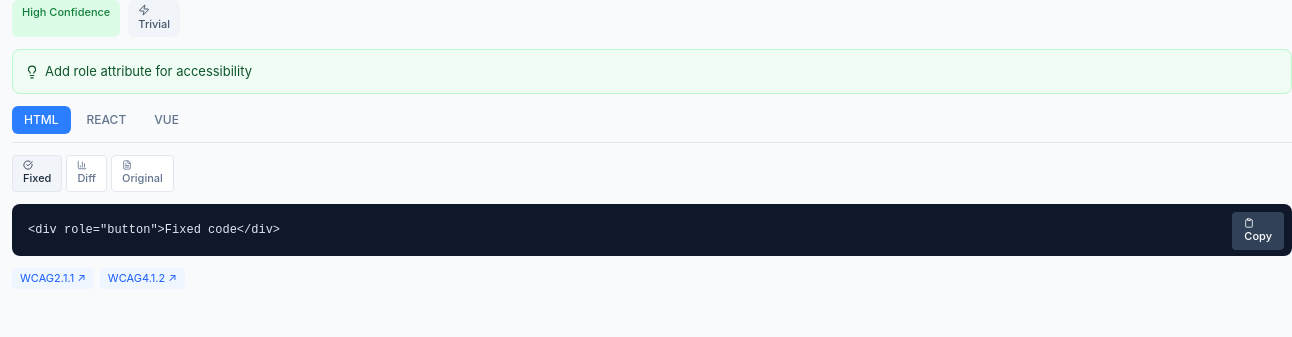
it: findings/FixCodePreview › renders empty diff lines as a space character
Click the button "Diff": (87, 173) [66, 155, 107, 192]
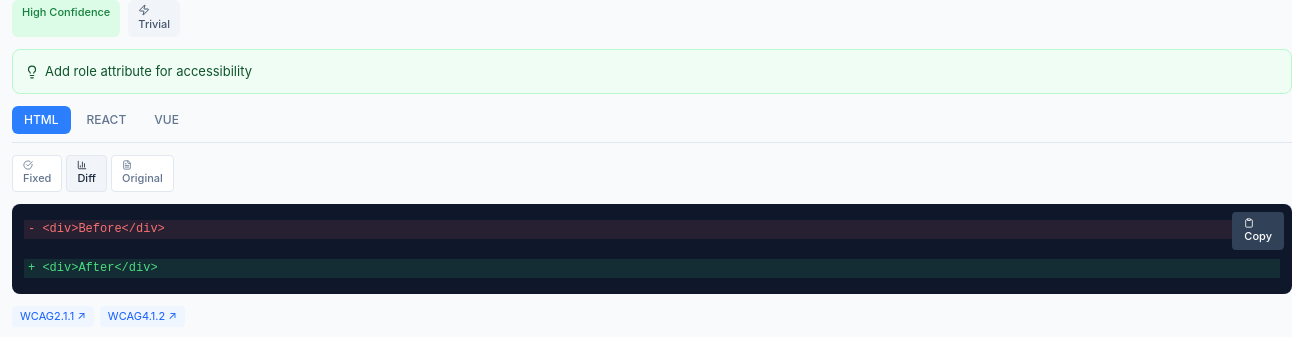
Check: the text "- <div>Before</div>" is shown, box [24, 220, 1280, 239]
Check: the text "+ <div>After</div>" is shown, box [24, 258, 1280, 278]
